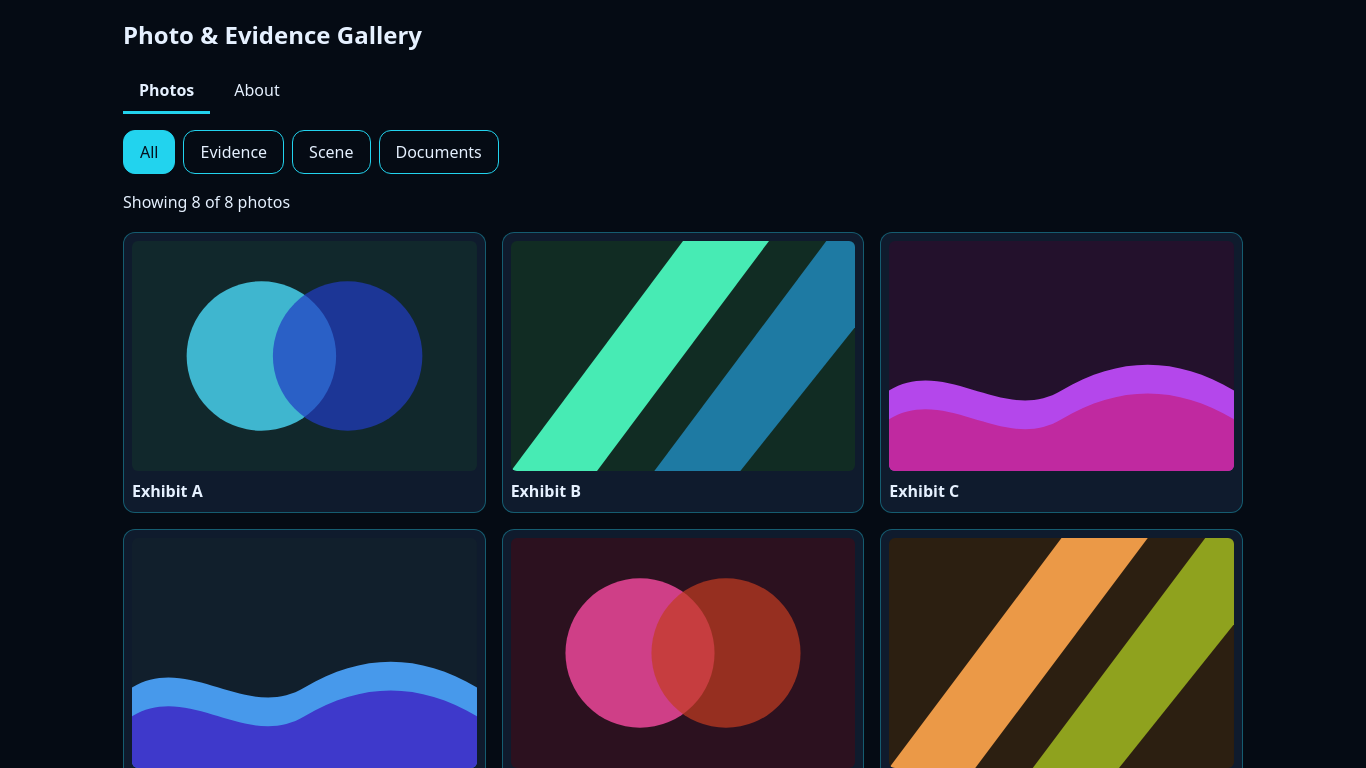
it: PhotoGalleryLayout native <dialog> (URL driven) › opens when a thumbnail is clicked and writes photoId to the URL
Click the link "Exhibit B". click: (683, 373)
box: [502, 232, 864, 513]
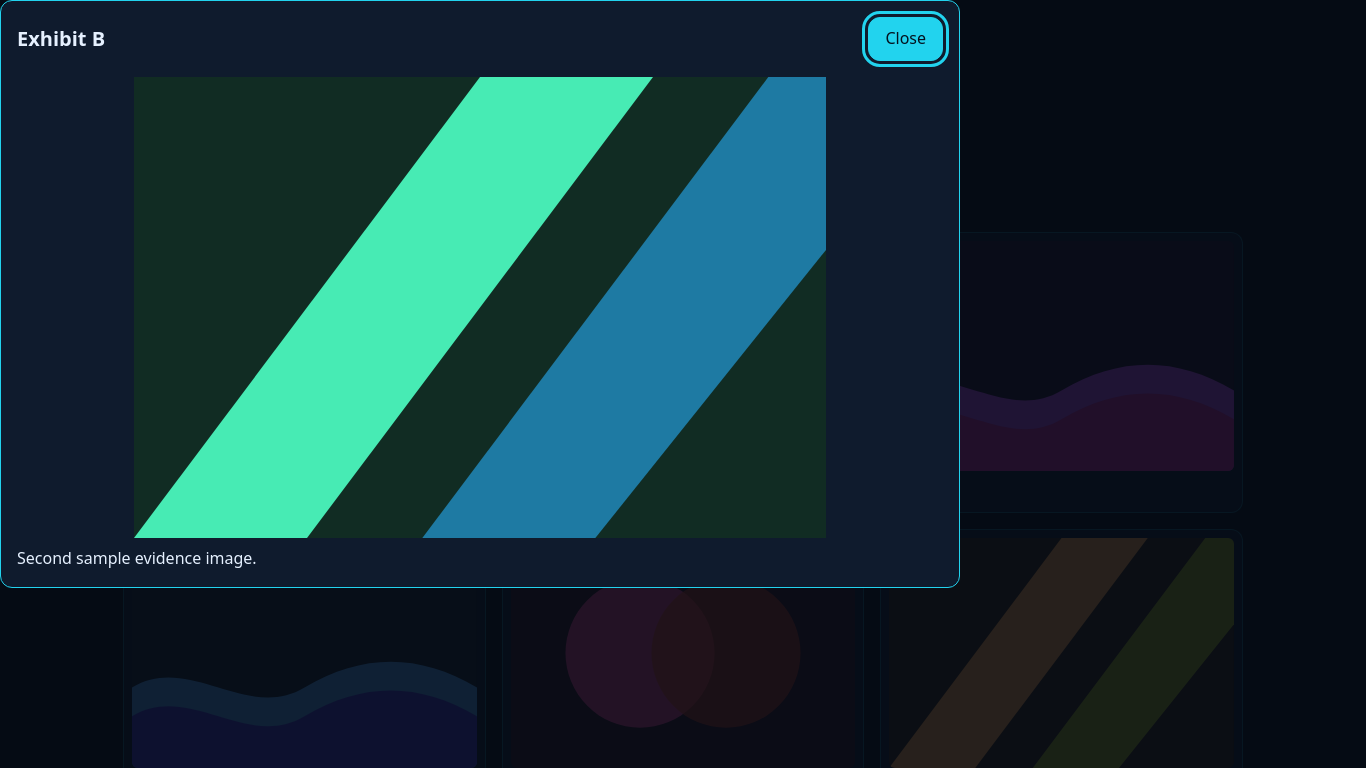
Check: the heading "Exhibit B" is shown, box [17, 23, 105, 55]
